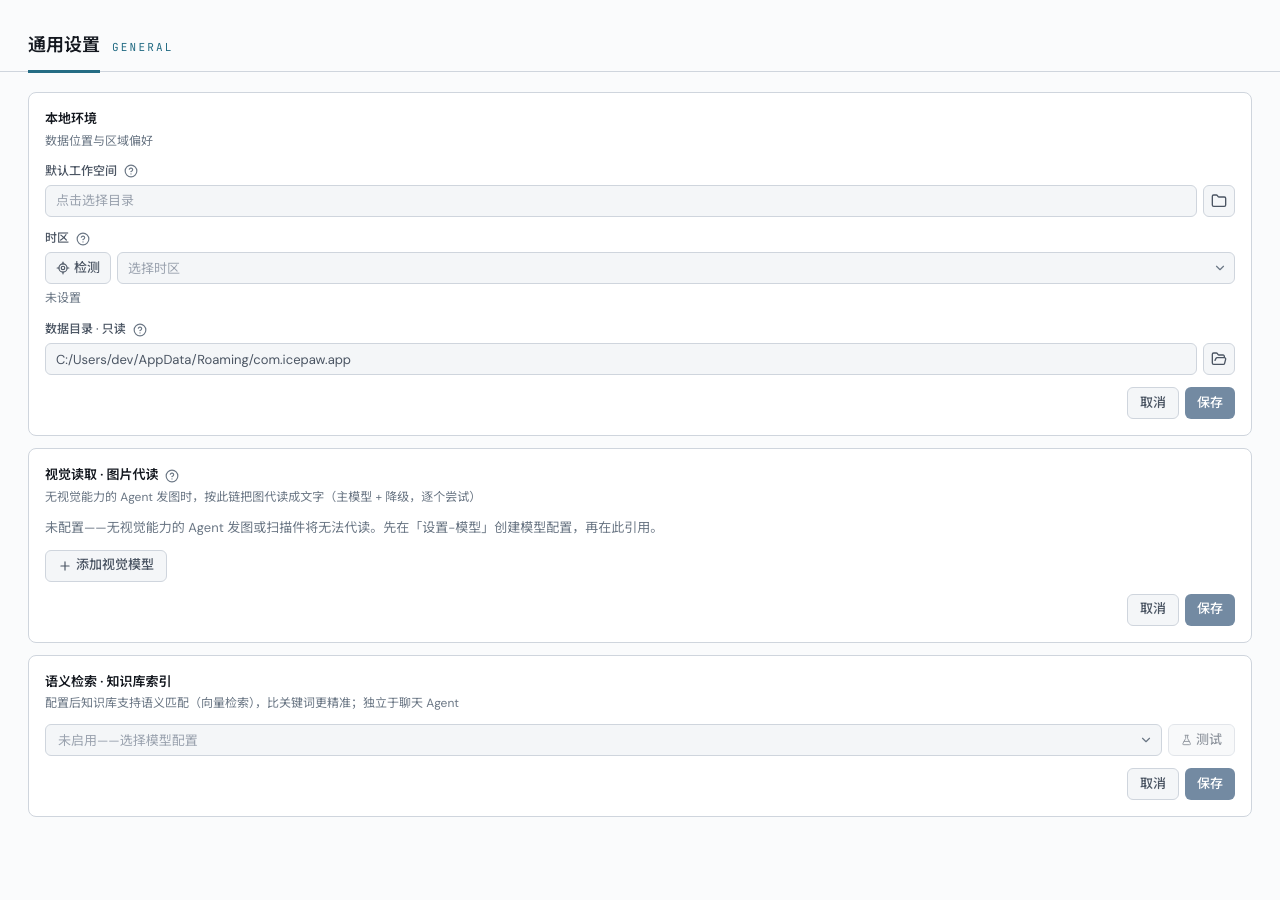
Test: GeneralSettings 通用设置页（三卡显式保存） › 空链也有添加入口（「添加视觉模型」= 第一条主模型）
The image size is (1280, 900).
Expected: the number of elements with class "settings-card" is 3, [28,92,1252,436]; [28,448,1252,643]; [28,655,1252,818]
Click the button "添加视觉模型" at (106, 566), box [45,550,167,582]
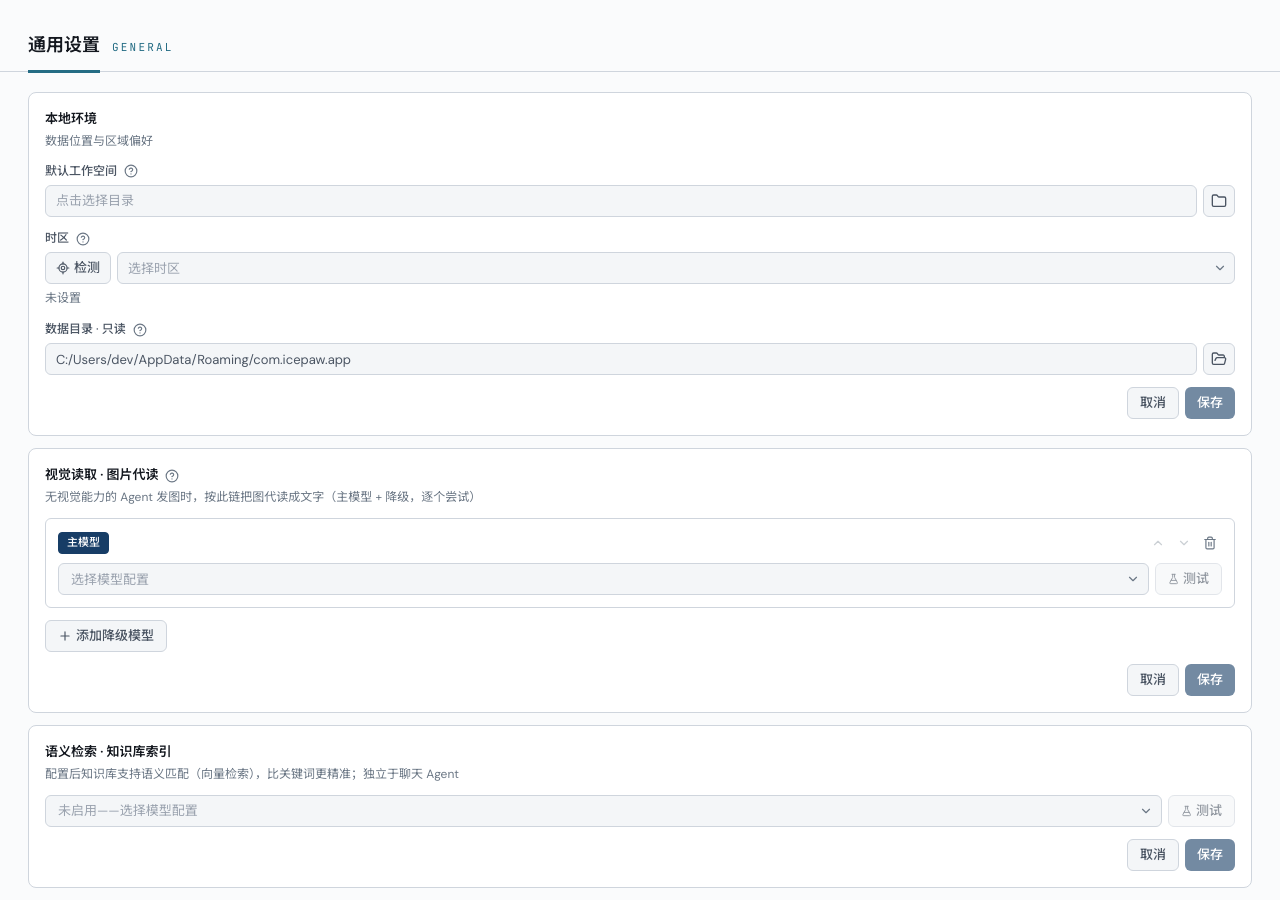
Expected: the text "主模型" is shown, [58,532,109,554]
